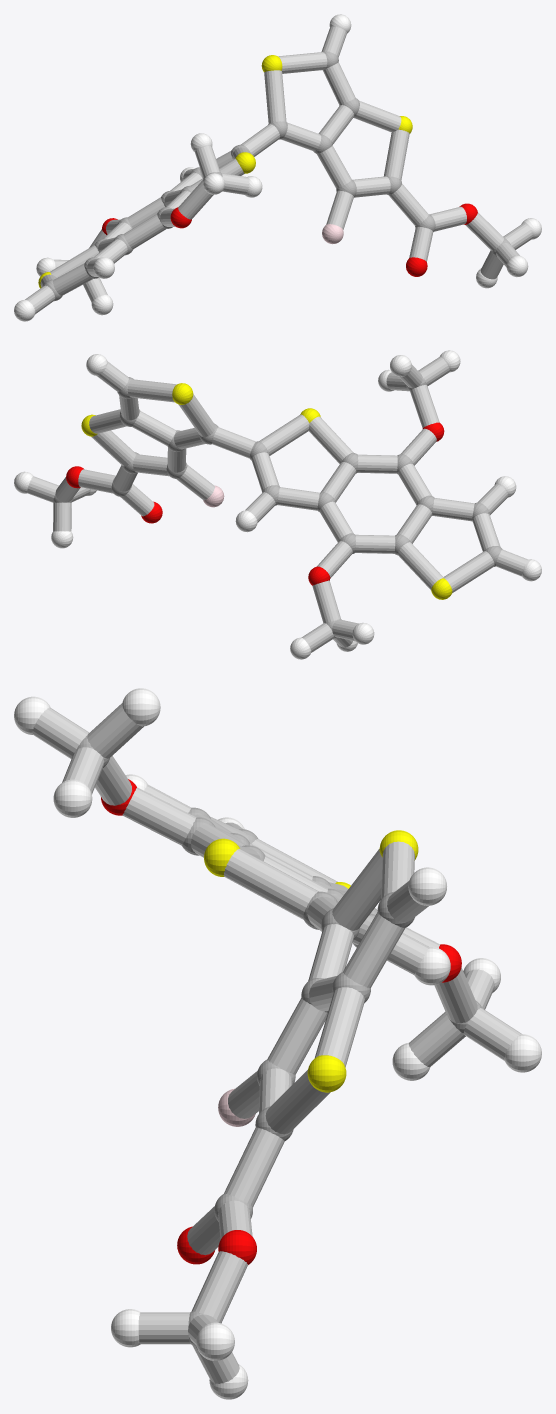
Rendered from color.glb.
3 views of the same model, one above another, from view 1: azimuth 30°, elevation 25°; view 2: azimuth 150°, elevation 25°; view 3: azimuth 270°, elevation 25° (orthographic). The views are drawn at different scales.
Visible parts, largest first — view 1: grp15205, grp8689, grp1, grp13395, grp7241; view 2: grp15205, grp8689, grp1, grp7241, grp13395; view 3: grp15205, grp8689, grp1, grp7241, grp13395.
Boxes of the visible parts, bbox=[...] form: grp15205: bbox=[25, 26, 532, 314]; grp8689: bbox=[14, 14, 541, 321]; grp1: bbox=[43, 51, 510, 301]; grp13395: bbox=[102, 203, 477, 276]; grp7241: bbox=[38, 55, 412, 288]; grp15205: bbox=[27, 357, 528, 652]; grp8689: bbox=[14, 350, 541, 659]; grp1: bbox=[53, 377, 502, 638]; grp7241: bbox=[81, 383, 452, 599]; grp13395: bbox=[66, 422, 444, 585]; grp15205: bbox=[32, 703, 522, 1383]; grp8689: bbox=[14, 688, 541, 1399]; grp1: bbox=[76, 736, 481, 1346]; grp7241: bbox=[204, 830, 418, 1092]; grp13395: bbox=[101, 779, 461, 1264].
Bounding box in the file's own units: 16.58 × 7.69 × 8.17.
